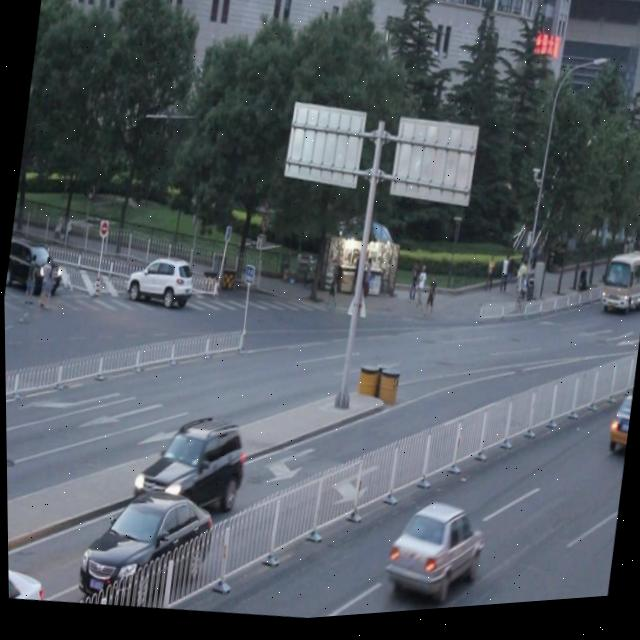car: (74, 479, 218, 621), (129, 403, 251, 525), (380, 498, 487, 613), (121, 255, 196, 320), (8, 235, 64, 298), (6, 551, 49, 603), (604, 393, 633, 461)
truck: (597, 255, 640, 324)
